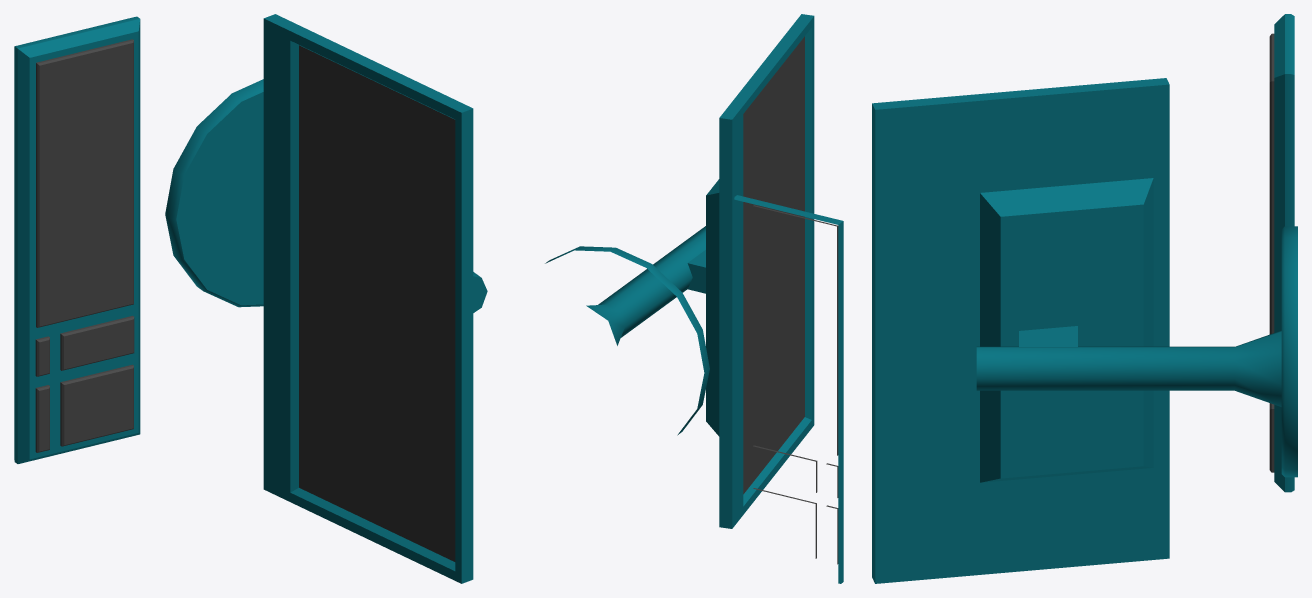
File: computer.glb
The picture shows the model from 3 angles, left to right: view 1: azimuth 30°, elevation 25°; view 2: azimuth 150°, elevation 25°; view 3: azimuth 270°, elevation 25°; orthographic projection. The views are drawn at different scales.
Parts seen in each view (by area): view 1: computer; view 2: computer; view 3: computer.
Part boxes in pixels (x1,y1,x2,y2): computer: (14,14,487,583); computer: (545,14,843,583); computer: (872,14,1297,583).
Size of the model in its own units: 0.6104 by 0.7424 by 0.6044.
